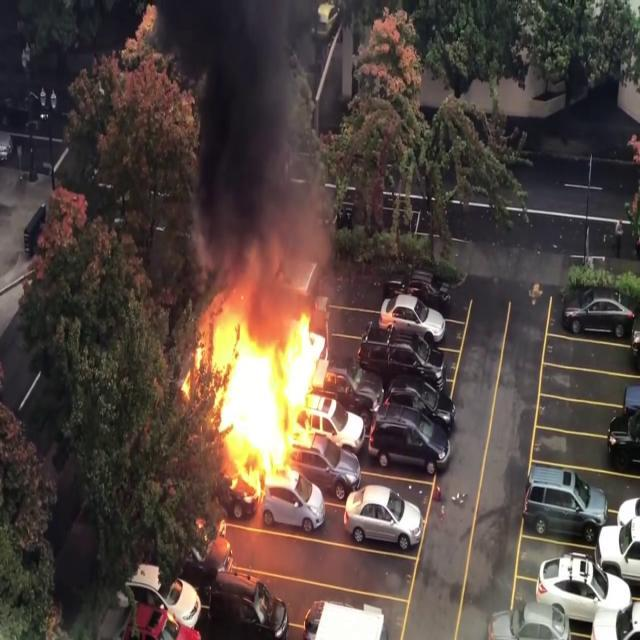Fire: (185, 293, 339, 492)
Smoke: (168, 0, 342, 301)
